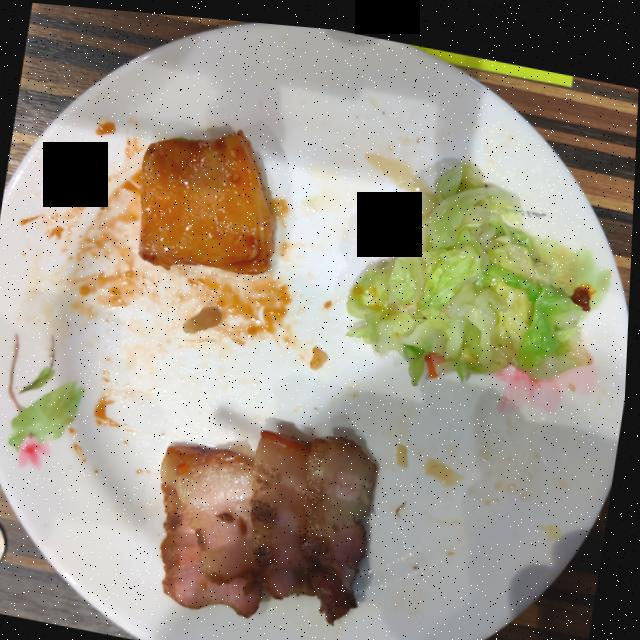cabbage: (350, 154, 591, 373)
coin: (0, 522, 10, 566)
creamy tofu: (141, 125, 276, 269)
red grilled pork: (165, 424, 380, 617)
